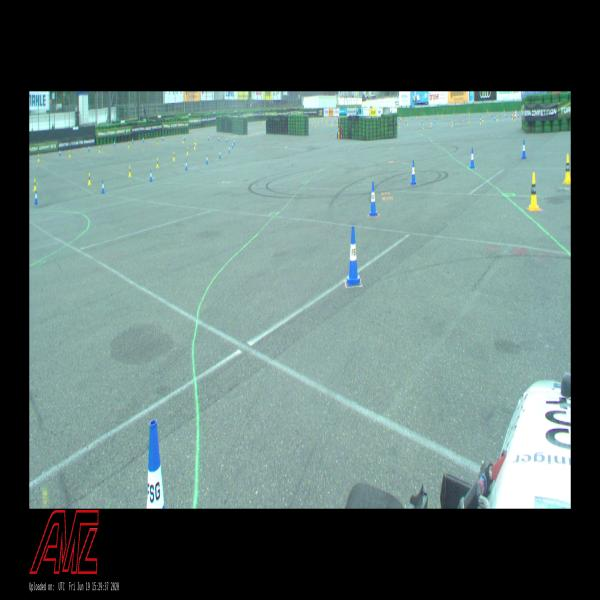blue_cone: (146, 419, 164, 508), (346, 227, 361, 286), (369, 181, 378, 216), (410, 160, 416, 184), (470, 147, 475, 169), (522, 140, 526, 158), (34, 190, 38, 204), (101, 180, 105, 194), (149, 170, 153, 182), (185, 160, 188, 170), (206, 154, 208, 164), (228, 144, 230, 152), (219, 150, 221, 158)
yellow_cone: (529, 172, 539, 211), (562, 154, 571, 184), (88, 173, 92, 184), (128, 166, 132, 176), (33, 178, 36, 191), (156, 157, 159, 168), (173, 152, 175, 160), (38, 154, 39, 162), (187, 147, 188, 154), (128, 142, 129, 148)
